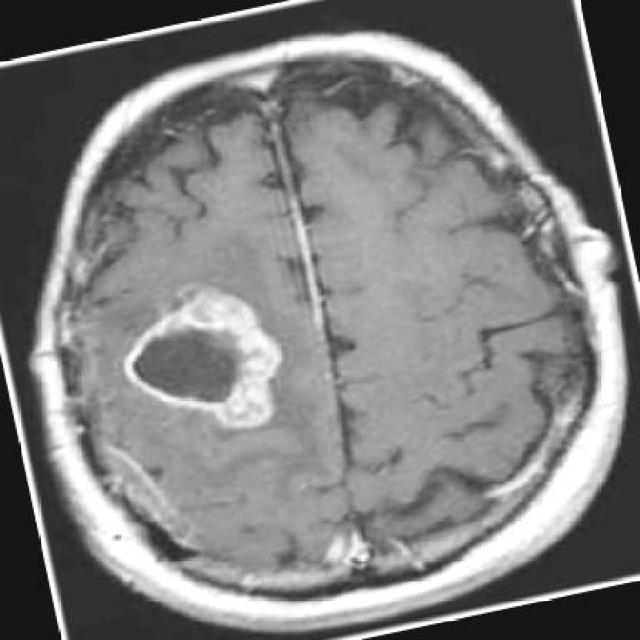Brain-Tumor: (119, 276, 303, 441)
